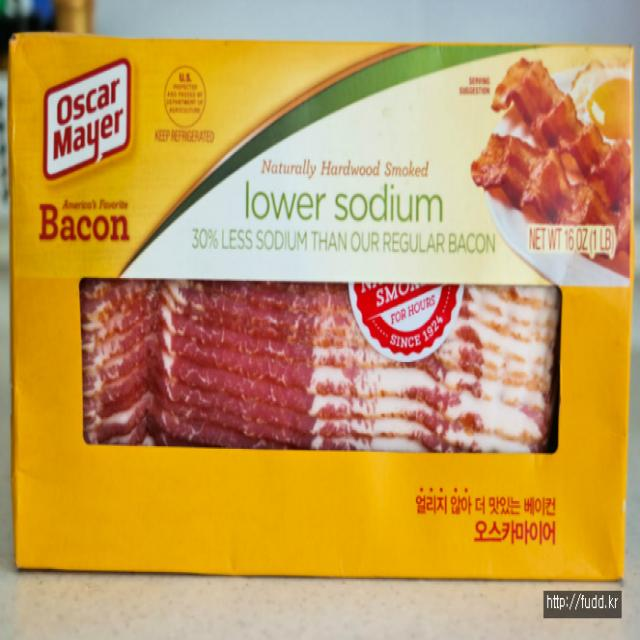bacon: (80, 279, 562, 452)
